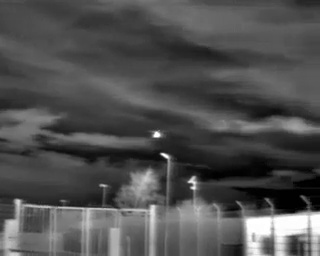HELICOPTER: (147, 125, 168, 142)
